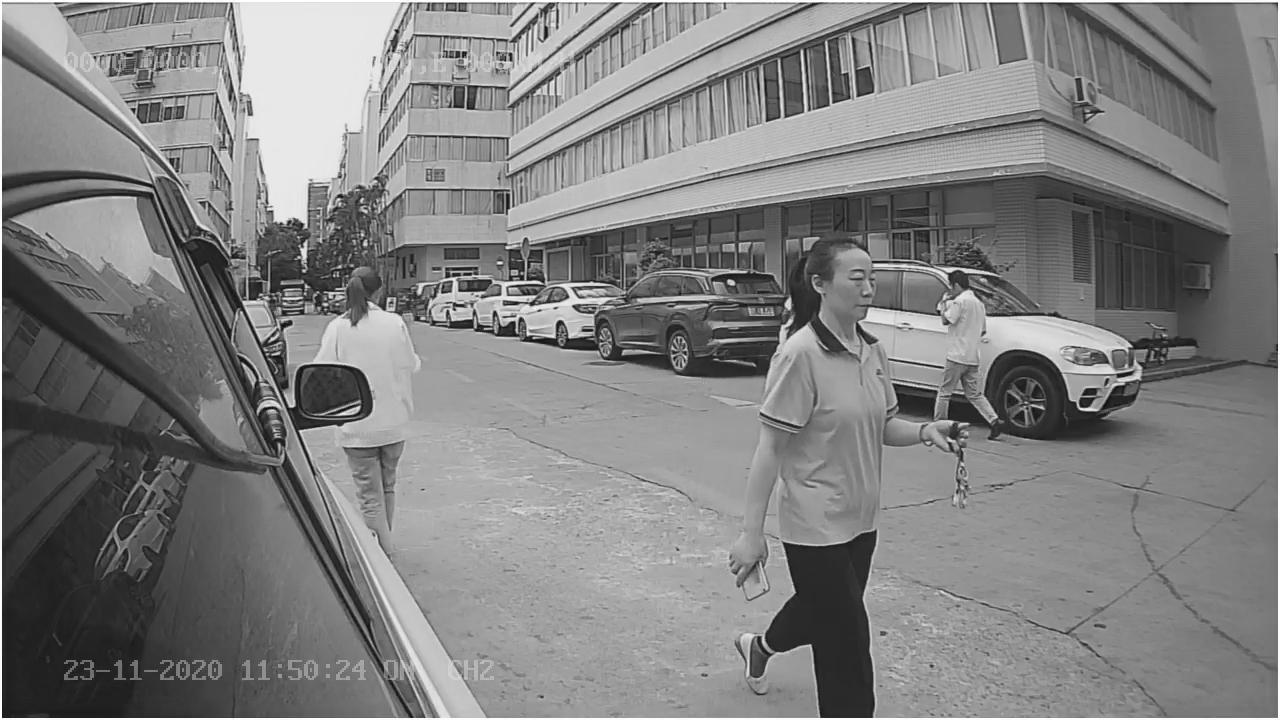person: (733, 202, 975, 720), (318, 258, 420, 364)
